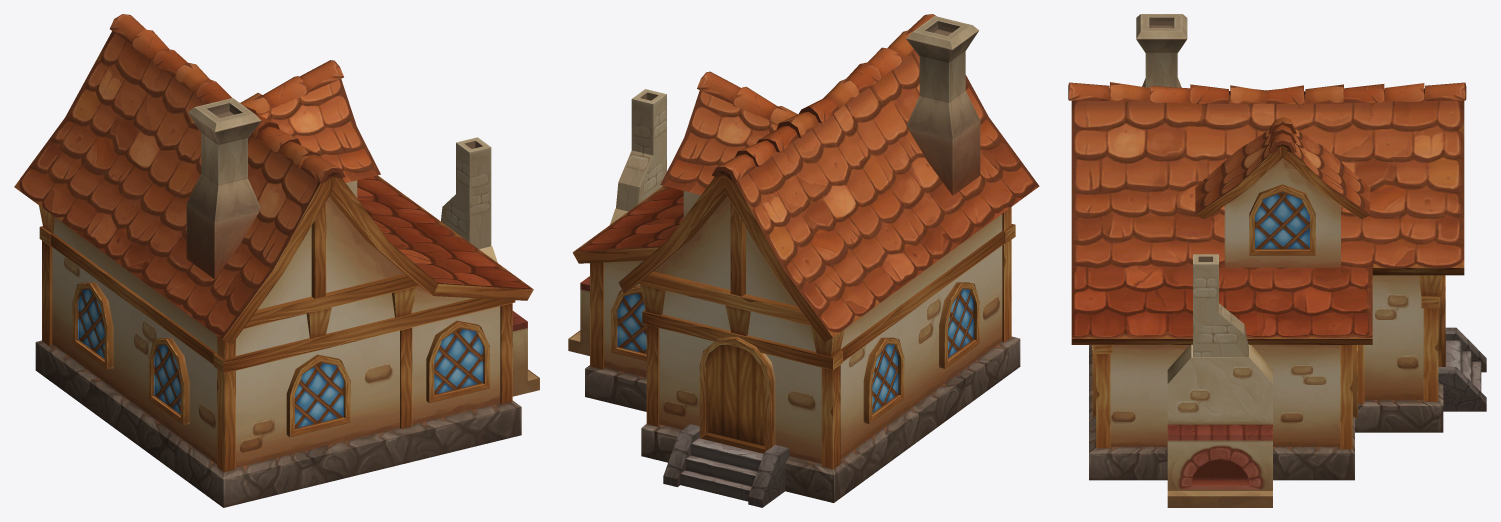
Rendered from house.obj.
The picture shows the model from 3 angles, left to right: view 1: azimuth 30°, elevation 25°; view 2: azimuth 150°, elevation 25°; view 3: azimuth 270°, elevation 25°; orthographic projection. The views are drawn at different scales.
Visible parts, largest first — view 1: Baker_house; view 2: Baker_house; view 3: Baker_house.
Boxes of the visible parts, box(x1,y1,x2,y2) form: Baker_house: box(14, 14, 539, 507); Baker_house: box(568, 14, 1039, 507); Baker_house: box(1068, 14, 1486, 507).
Bounding box in the file's own units: 9.5 × 8.86 × 9.92.
1 material, 1 textured.
